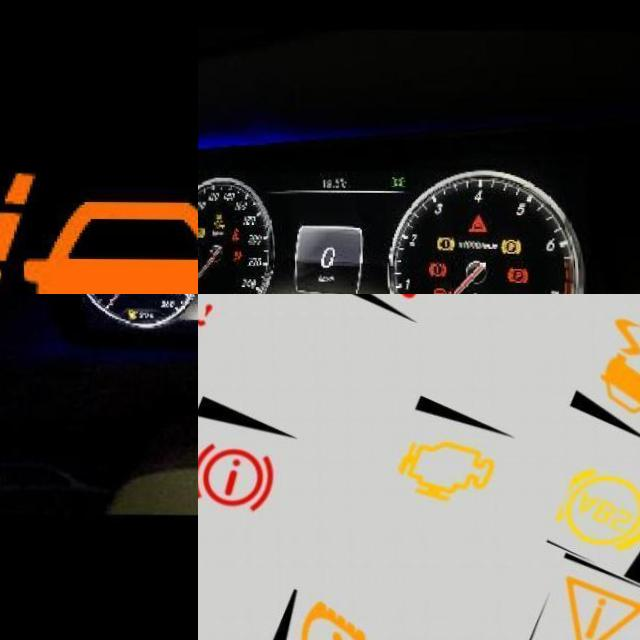Low fuel level: (126, 310, 134, 319)
